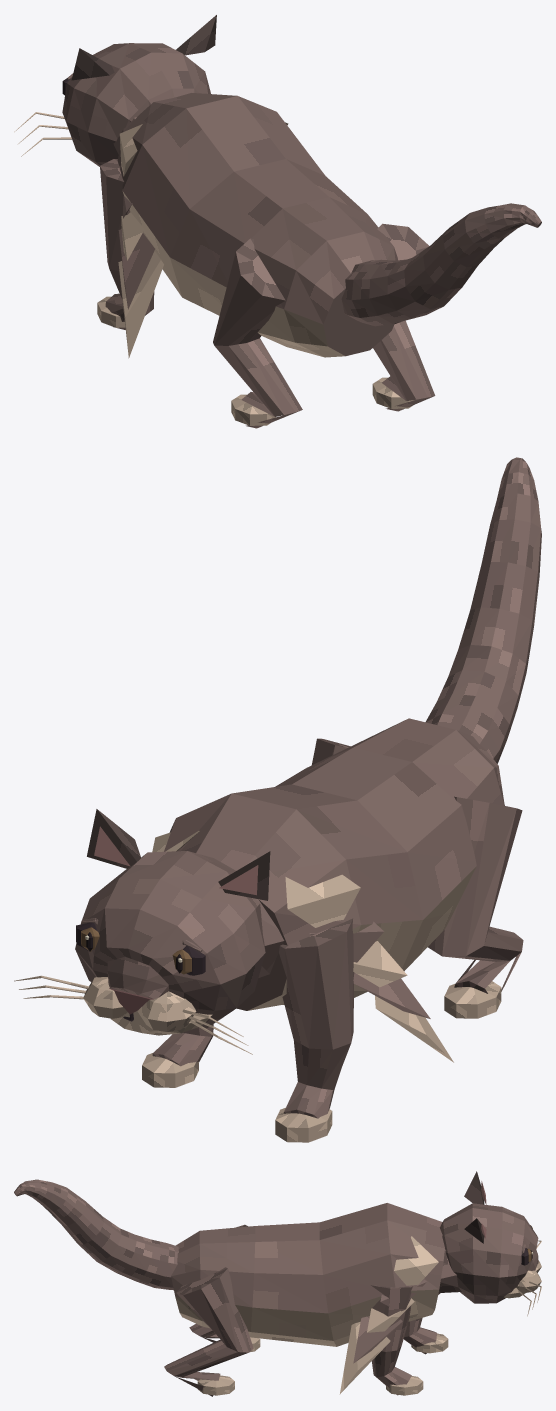
File: mon_cat_longhair_kitten.glb
3 views of the same model, one above another, from view 1: azimuth 30°, elevation 25°; view 2: azimuth 150°, elevation 25°; view 3: azimuth 270°, elevation 25° (orthographic). The views are drawn at different scales.
Visible parts, largest first — view 1: closed_body; view 2: closed_body; view 3: closed_body.
Part boxes in pixels (<box>): closed_body: <box>14,15,541,428</box>; closed_body: <box>14,457,541,1142</box>; closed_body: <box>14,1171,541,1396</box>.
Size of the model in its own units: 0.1188 by 0.1471 by 0.3305.
Materials: 1 (1 with a texture image).
